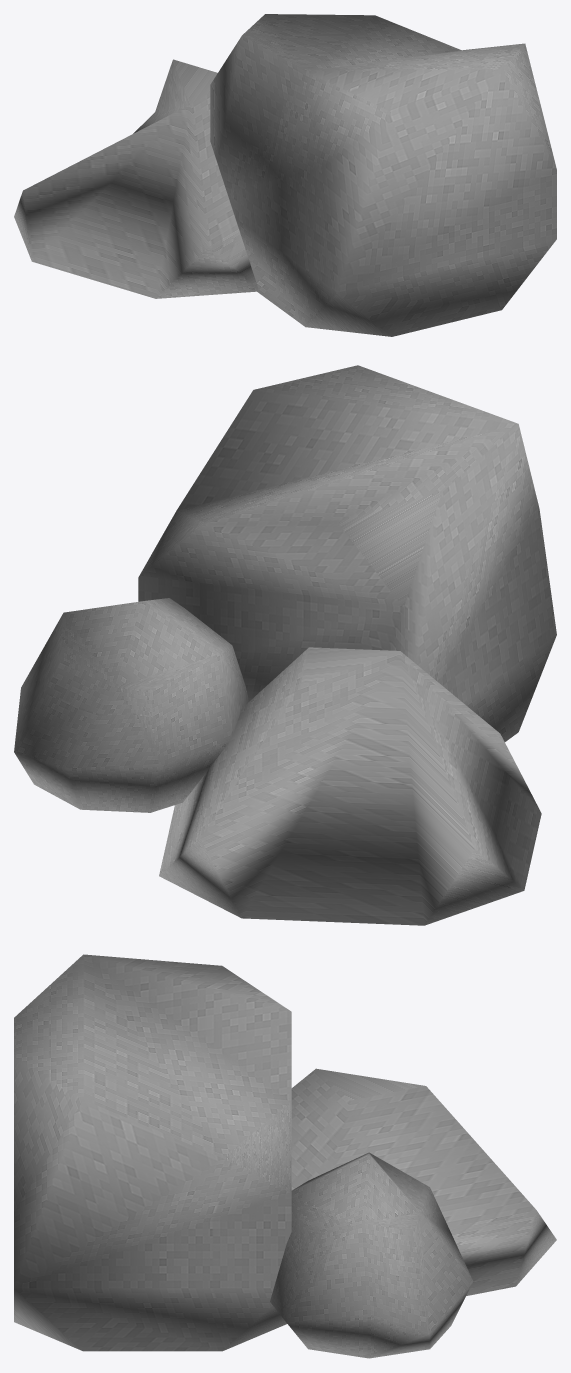
The model's file is Rock.fbx.
3 views of the same model, one above another, from view 1: azimuth 30°, elevation 25°; view 2: azimuth 150°, elevation 25°; view 3: azimuth 270°, elevation 25° (orthographic). The views are drawn at different scales.
Parts seen in each view (by area): view 1: polySurface1; view 2: polySurface1; view 3: polySurface1.
Part boxes in pixels (bbox=[...]): polySurface1: bbox=[14, 14, 556, 336]; polySurface1: bbox=[14, 365, 556, 925]; polySurface1: bbox=[14, 954, 556, 1358].
Bounding box in the file's own units: 10.2 × 5.92 × 10.42.
Materials: 1 (1 with a texture image).
